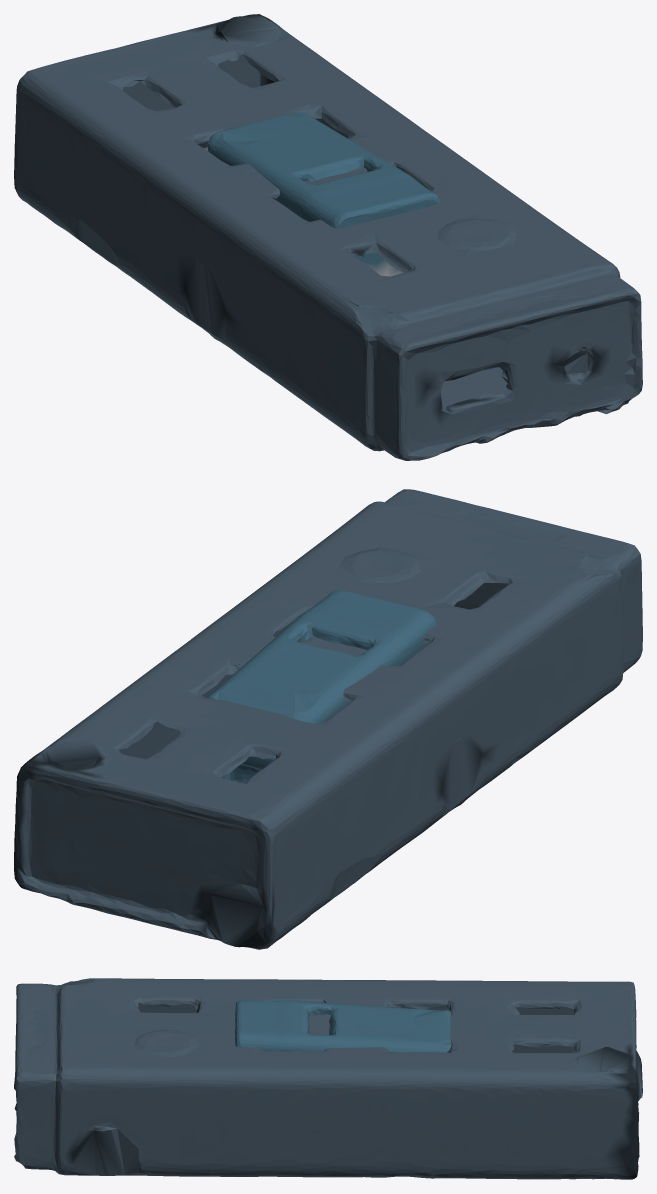
3 views of the same model, one above another, from view 1: azimuth 30°, elevation 25°; view 2: azimuth 150°, elevation 25°; view 3: azimuth 270°, elevation 25° (orthographic). The views are drawn at different scales.
Parts seen in each view (by area): view 1: world; view 2: world; view 3: world.
Part boxes in pixels (x1,y1,x2,y2): world: (14,14,642,460); world: (14,489,642,949); world: (14,978,642,1179).
Bounding box in the file's own units: 0.0493 × 0.0269 × 0.1249.
